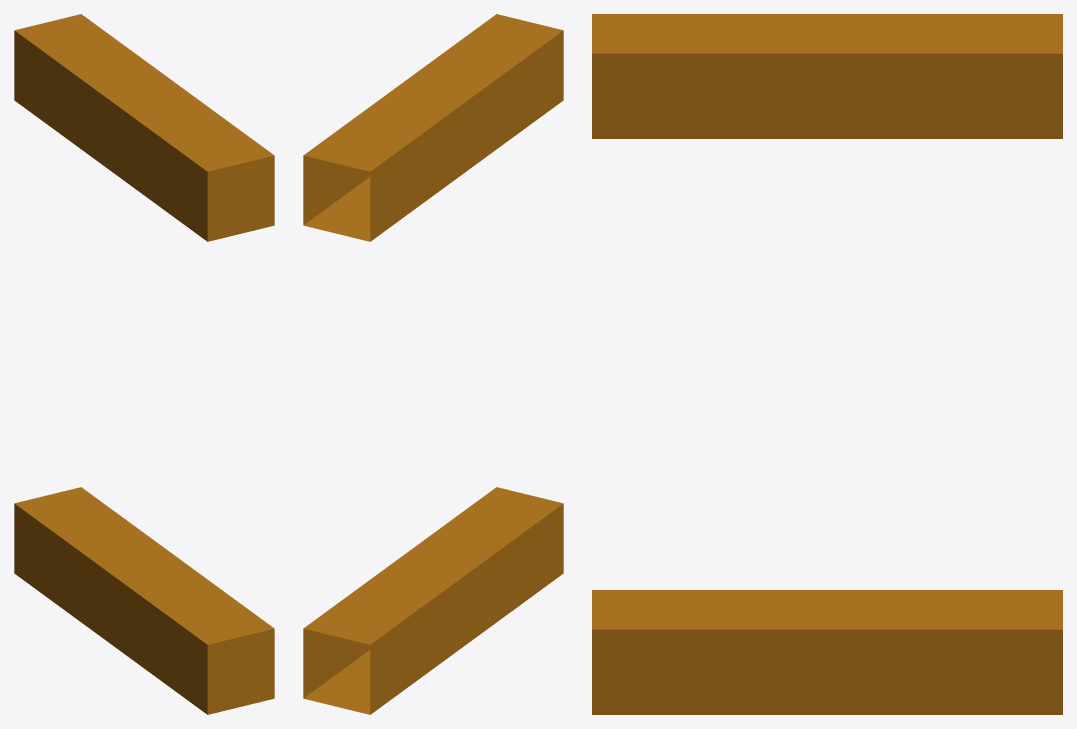
Rendered from pillar_south.glb.
3 renders of one model, left to right at view 1: azimuth 30°, elevation 25°; view 2: azimuth 150°, elevation 25°; view 3: azimuth 270°, elevation 25°, orthographic. The views are drawn at different scales.
Parts seen in each view (by area): view 1: bridge_11_pillar_south; view 2: bridge_11_pillar_south; view 3: bridge_11_pillar_south.
Boxes of the visible parts, x1,y1,x2,y2 form: bridge_11_pillar_south: (14,14,274,714); bridge_11_pillar_south: (303,14,563,714); bridge_11_pillar_south: (592,14,1062,714).
Size of the model in its own units: 1.6 by 12.4 by 8.
